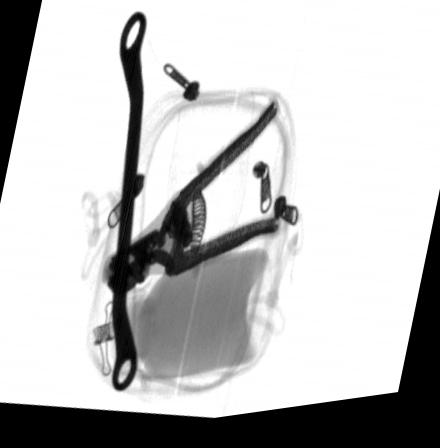Pliers: (105, 106, 279, 302)
Wrench: (110, 11, 149, 396)
